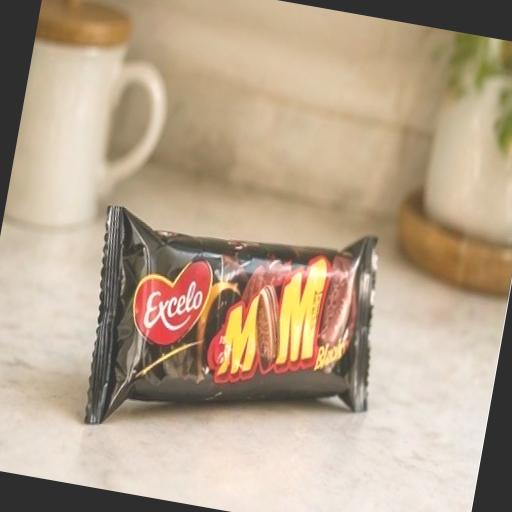MOMO: (36, 127, 441, 512)
